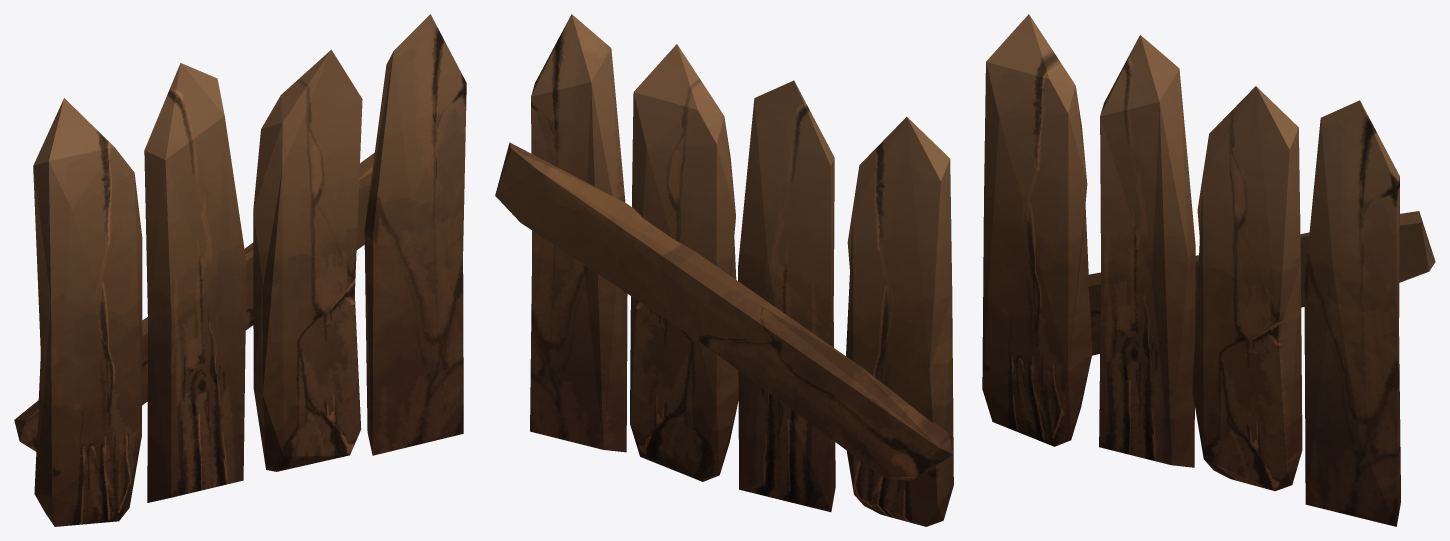
Rendered from Msh_Fens_Env.fbx.
3 views of the same model, side by side, from view 1: azimuth 30°, elevation 25°; view 2: azimuth 150°, elevation 25°; view 3: azimuth 330°, elevation 25° (orthographic). The views are drawn at different scales.
Visible parts, largest first — view 1: Fence; view 2: Fence; view 3: Fence.
Boxes of the visible parts, box(x1,y1,x2,y2) form: Fence: box(14, 14, 466, 526); Fence: box(495, 14, 953, 526); Fence: box(982, 14, 1435, 526).
Bounding box in the file's own units: 14.4 × 13.16 × 1.97.
